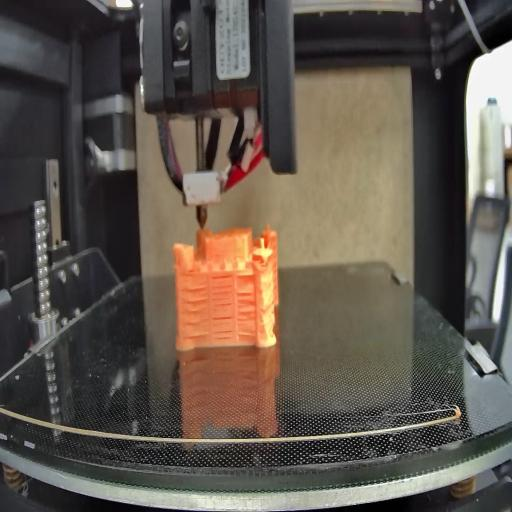cracks: (182, 282, 210, 338), (212, 286, 234, 344), (237, 287, 256, 338), (209, 269, 234, 279), (236, 270, 255, 283)
